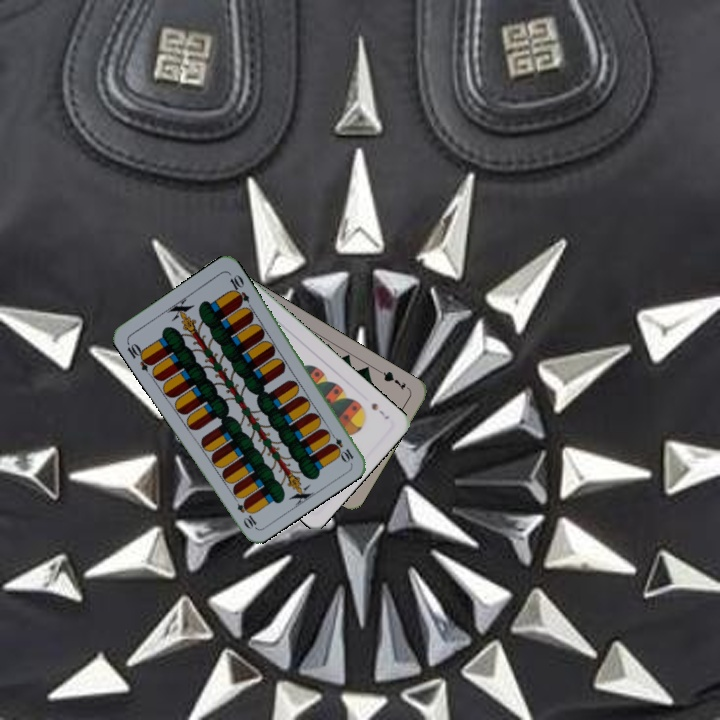E10: (123, 338, 155, 374), (325, 428, 356, 465)
G7: (375, 367, 412, 393)
S7: (367, 399, 392, 422)
